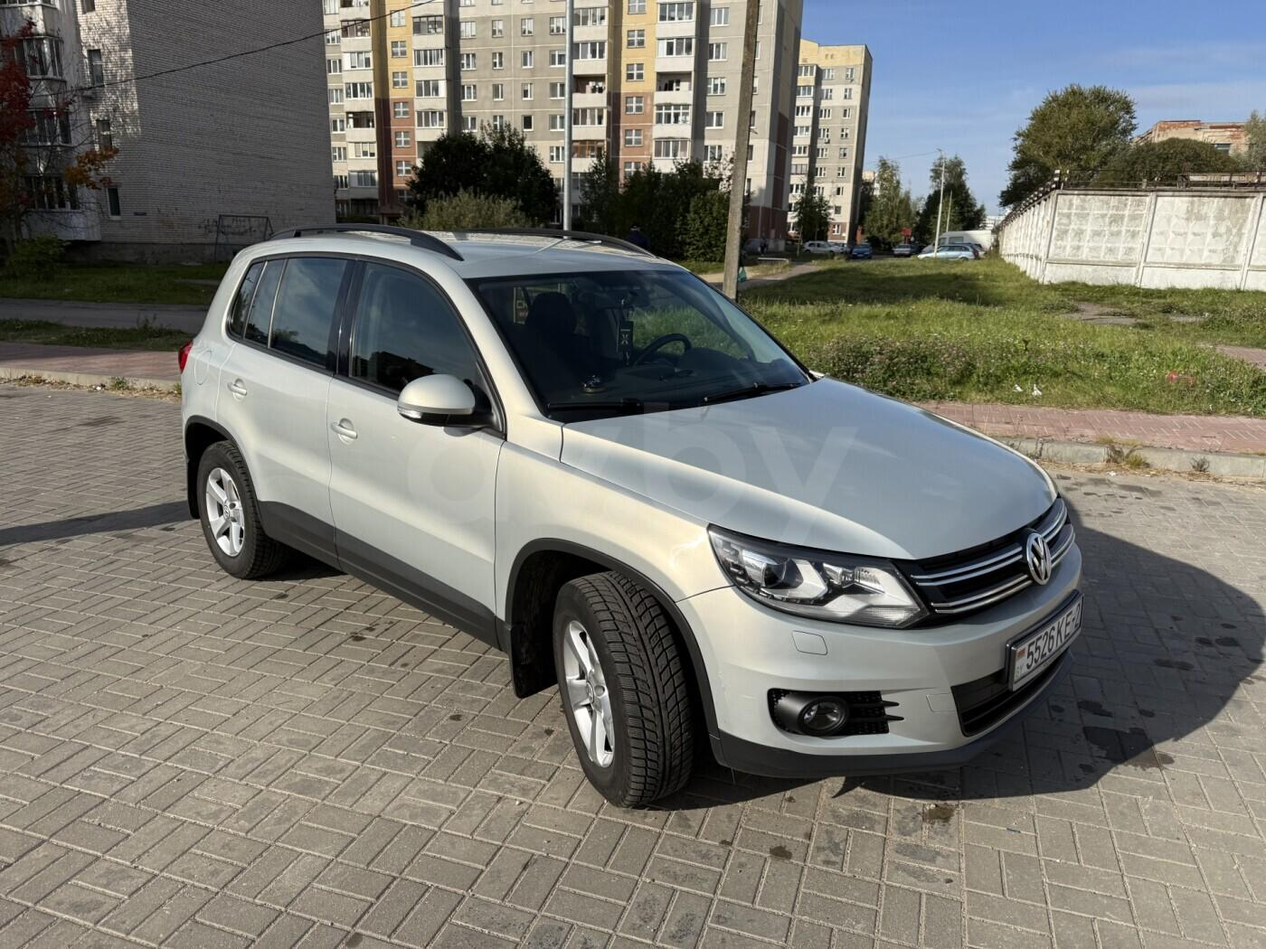Tiguan_2011-2018: (173, 222, 1088, 799)
